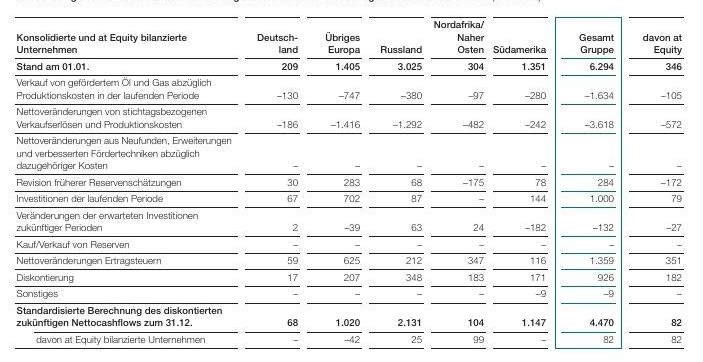table: (0, 0, 703, 362)
